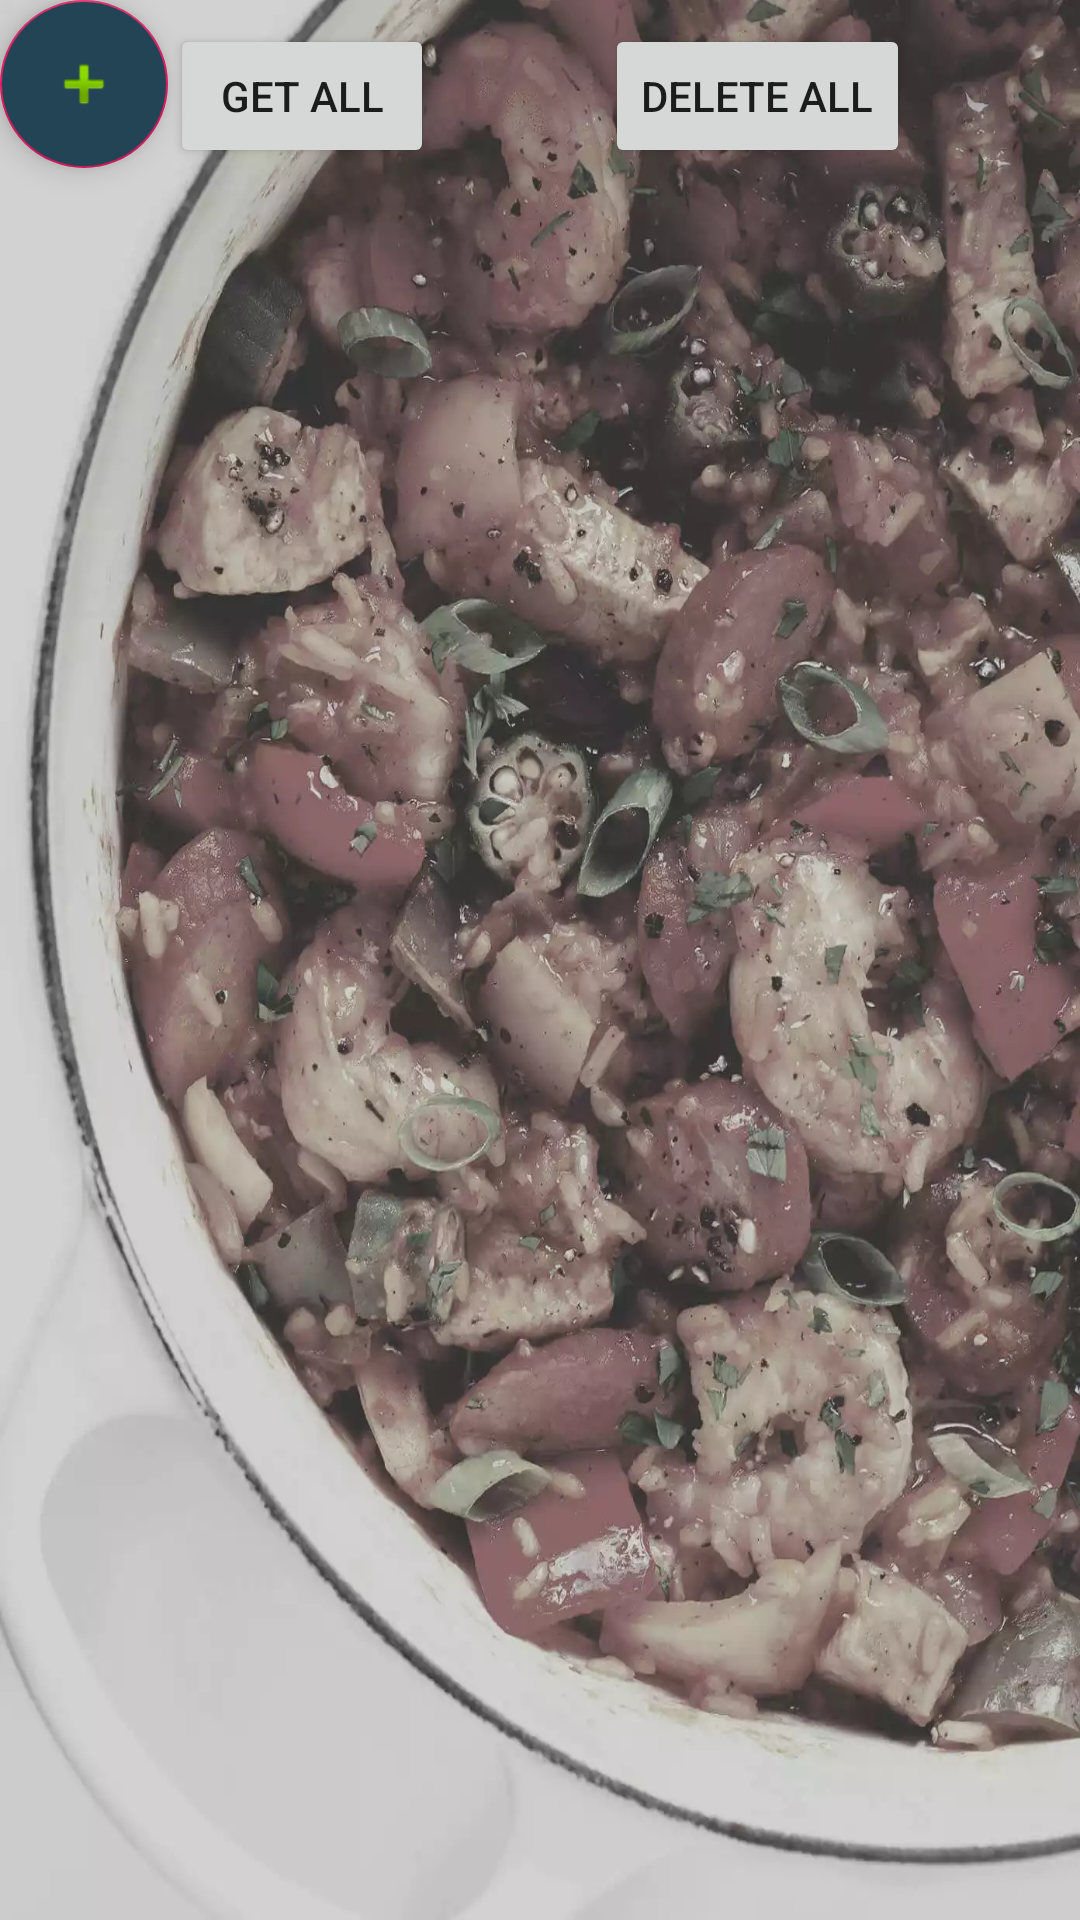

Icon click points for this 1080 x 1920 phone screenshot, format (x=x, y=y):
add: (x=84, y=84)
